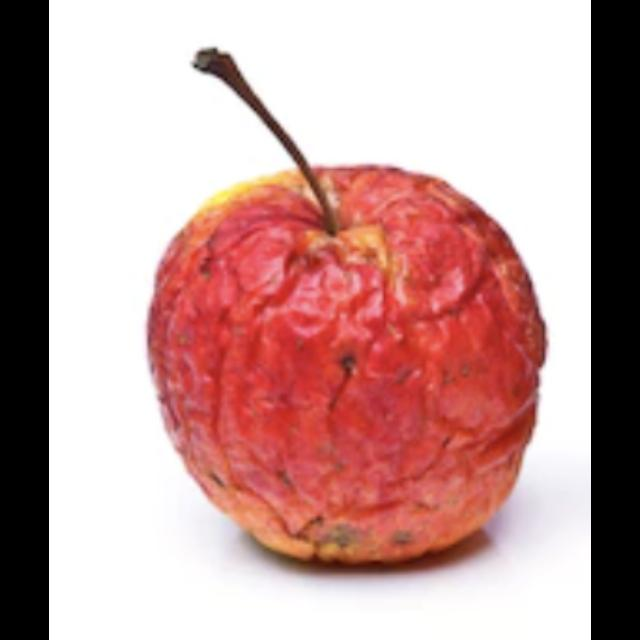Apel Tidak Segar: (144, 161, 560, 569)
